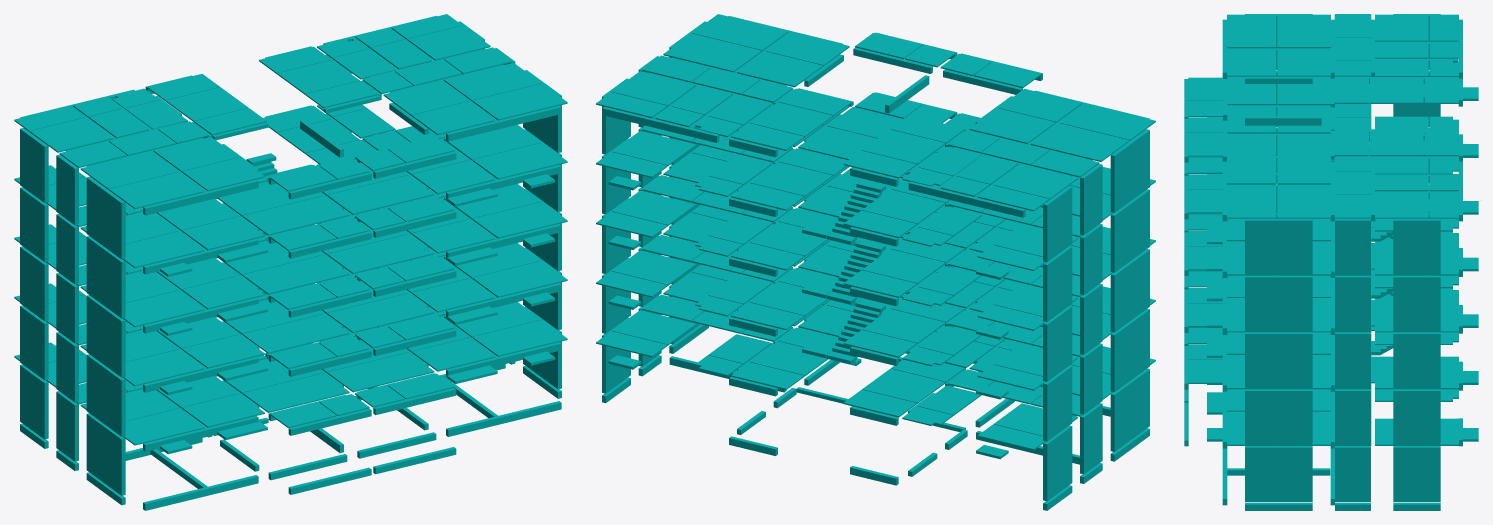
Rendered from models4.0.gltf.
3 views of the same model, side by side, from view 1: azimuth 30°, elevation 25°; view 2: azimuth 150°, elevation 25°; view 3: azimuth 270°, elevation 25° (orthographic). The views are drawn at different scales.
Parts seen in each view (by area): view 1: 2F-LBX0504(024)/61fa3e479e254aff9bd0b056147654b6, 3F-LBX0503(023)/0d5bd6dcacbc453c8529579cca087991, 2F-LBX0503(023)/05c0d93e59454261aa7baa241116034c, 3F-LBX0504(024)/a85b02fe84514b76b646c85bc1fd6932, 4F-LBX0504(024)/dd8220fb864f4d7facb469379a15731f, 4F-LBX0503(023)/7180889460774d859471ceec69d2d3e7, 5F-LBX0503(023)/4ae863166e99488e817b0ac78ca3a71d, 5F-LBX0504(024)/0f4557539a014e64a44cf51211fb968a, 6F-LBX0401(019)/a8733a8e0af14a4aa355b0bd29c35148, 6F-LBX0404(022)/0a376a5e716d4683abbb61e691a770b1, 6F-WQX0301(005)/ac01faee06e549eba2cb065120068a9d, 3F-WQX0301(005)/a73a530ccf2a47368d5157d5bf508b5d (+126 smaller); view 2: 6F-LBX0404(022)/0a376a5e716d4683abbb61e691a770b1, 6F-LBX0401(019)/a8733a8e0af14a4aa355b0bd29c35148, 6F-WQX0301(005)/ac01faee06e549eba2cb065120068a9d, 3F-WQX0301(005)/a73a530ccf2a47368d5157d5bf508b5d, 2F-WQX0301(005)/ad61021db5234ff6bf90b48a84d591ae, 5F-WQX0301(005)/cfd4eb56cd734b01977c3f3acd36a9f9, 4F-WQX0301(005)/6d1c402e521a47d49de295a929f878e2, 6F-LBX0504(026)/a742edb201384f4ab2e64632b5d942a6 03, 6F-LBX0501(023)/ef9e0f7d15604870919470bdd64b23b3, 6F-LBX0402(020)/9aac16b66622414c9e2b5844d1bc4c17, 6F-LBX0403(021)/2b0f9f33cd5f4046bc27e119eca036c4, 6F-LBX0201(009)/7969c3ca42274be093a1ed5d7ff32366 (+112 smaller); view 3: 4F-WQX0302(006)/d3002f8c032c40deaf6cfdb9a7b3daeb, 2F-WQX0302(006)/f78461b2e9704425bc93ff6d9ec46c40, 3F-WQX0302(006)/0aab47260dcf49d6a6f4081187ec94c7, 5F-WQX0302(006)/39f31440c5d34c038196b1d4d85d0663, 6F-WQX0302(006)/daf5b79e6ae547e993472835391f8b8e, 4F-WQX0102(002)/0c6a2975532a4a6b9143099c542a0fdb, 2F-WQX0102(002)/529217379ef341fe982178ce7b829ebf, 3F-WQX0102(002)/821106d37aa448d2b106ca756974b117, 5F-WQX0102(002)/d45a9c06a08942eca6c4d52007a76ff9, 6F-WQX0102(002)/57973b50f5ce4301bb3e897c5e2c2137, 6F-LBX0401(019)/a8733a8e0af14a4aa355b0bd29c35148, 6F-LBX0404(022)/0a376a5e716d4683abbb61e691a770b1 (+104 smaller).
Boxes of the visible parts, x1=… form: 2F-LBX0504(024)/61fa3e479e254aff9bd0b056147654b6: x1=327, y1=352, x2=434, y2=392; 3F-LBX0503(023)/0d5bd6dcacbc453c8529579cca087991: x1=242, y1=314, x2=349, y2=353; 2F-LBX0503(023)/05c0d93e59454261aa7baa241116034c: x1=242, y1=373, x2=349, y2=412; 3F-LBX0504(024)/a85b02fe84514b76b646c85bc1fd6932: x1=327, y1=293, x2=434, y2=333; 4F-LBX0504(024)/dd8220fb864f4d7facb469379a15731f: x1=327, y1=234, x2=434, y2=273; 4F-LBX0503(023)/7180889460774d859471ceec69d2d3e7: x1=242, y1=255, x2=349, y2=294; 5F-LBX0503(023)/4ae863166e99488e817b0ac78ca3a71d: x1=242, y1=196, x2=349, y2=235; 5F-LBX0504(024)/0f4557539a014e64a44cf51211fb968a: x1=327, y1=175, x2=434, y2=214; 6F-LBX0401(019)/a8733a8e0af14a4aa355b0bd29c35148: x1=80, y1=151, x2=177, y2=189; 6F-LBX0404(022)/0a376a5e716d4683abbb61e691a770b1: x1=444, y1=63, x2=541, y2=101; 6F-WQX0301(005)/ac01faee06e549eba2cb065120068a9d: x1=86, y1=184, x2=125, y2=259; 3F-WQX0301(005)/a73a530ccf2a47368d5157d5bf508b5d: x1=86, y1=362, x2=125, y2=436; 6F-LBX0404(022)/0a376a5e716d4683abbb61e691a770b1: x1=663, y1=33, x2=761, y2=72; 6F-LBX0401(019)/a8733a8e0af14a4aa355b0bd29c35148: x1=1031, y1=123, x2=1129, y2=161; 6F-WQX0301(005)/ac01faee06e549eba2cb065120068a9d: x1=1110, y1=137, x2=1149, y2=212; 3F-WQX0301(005)/a73a530ccf2a47368d5157d5bf508b5d: x1=1110, y1=316, x2=1149, y2=392; 2F-WQX0301(005)/ad61021db5234ff6bf90b48a84d591ae: x1=1110, y1=376, x2=1149, y2=451; 5F-WQX0301(005)/cfd4eb56cd734b01977c3f3acd36a9f9: x1=1110, y1=197, x2=1149, y2=272; 4F-WQX0301(005)/6d1c402e521a47d49de295a929f878e2: x1=1110, y1=257, x2=1149, y2=332; 6F-LBX0504(026)/a742edb201384f4ab2e64632b5d942a6 03: x1=692, y1=14, x2=788, y2=51; 6F-LBX0501(023)/ef9e0f7d15604870919470bdd64b23b3: x1=1060, y1=103, x2=1155, y2=140; 6F-LBX0402(020)/9aac16b66622414c9e2b5844d1bc4c17: x1=969, y1=108, x2=1055, y2=143; 6F-LBX0403(021)/2b0f9f33cd5f4046bc27e119eca036c4: x1=737, y1=51, x2=823, y2=87; 6F-LBX0201(009)/7969c3ca42274be093a1ed5d7ff32366: x1=994, y1=164, x2=1077, y2=199; 4F-WQX0302(006)/d3002f8c032c40deaf6cfdb9a7b3daeb: x1=1245, y1=340, x2=1312, y2=388; 2F-WQX0302(006)/f78461b2e9704425bc93ff6d9ec46c40: x1=1245, y1=454, x2=1312, y2=501; 3F-WQX0302(006)/0aab47260dcf49d6a6f4081187ec94c7: x1=1245, y1=397, x2=1312, y2=444; 5F-WQX0302(006)/39f31440c5d34c038196b1d4d85d0663: x1=1245, y1=284, x2=1312, y2=331; 6F-WQX0302(006)/daf5b79e6ae547e993472835391f8b8e: x1=1245, y1=227, x2=1312, y2=274; 4F-WQX0102(002)/0c6a2975532a4a6b9143099c542a0fdb: x1=1393, y1=340, x2=1440, y2=388; 2F-WQX0102(002)/529217379ef341fe982178ce7b829ebf: x1=1393, y1=454, x2=1440, y2=501; 3F-WQX0102(002)/821106d37aa448d2b106ca756974b117: x1=1393, y1=397, x2=1440, y2=444; 5F-WQX0102(002)/d45a9c06a08942eca6c4d52007a76ff9: x1=1393, y1=284, x2=1440, y2=331; 6F-WQX0102(002)/57973b50f5ce4301bb3e897c5e2c2137: x1=1393, y1=227, x2=1440, y2=274; 6F-LBX0401(019)/a8733a8e0af14a4aa355b0bd29c35148: x1=1277, y1=14, x2=1330, y2=48; 6F-LBX0404(022)/0a376a5e716d4683abbb61e691a770b1: x1=1277, y1=185, x2=1330, y2=218.
Size of the model in its own units: 21840 by 14430 by 13160.
